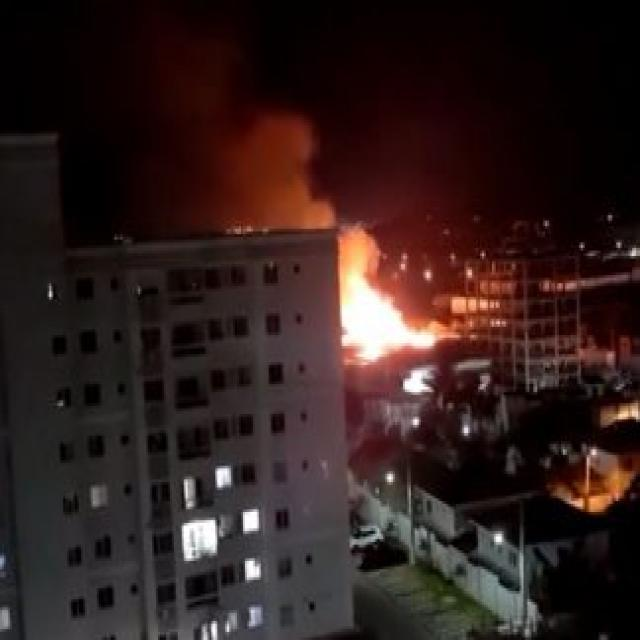Fire: (344, 275, 436, 359)
Smoke: (168, 86, 315, 233), (318, 193, 382, 271)
